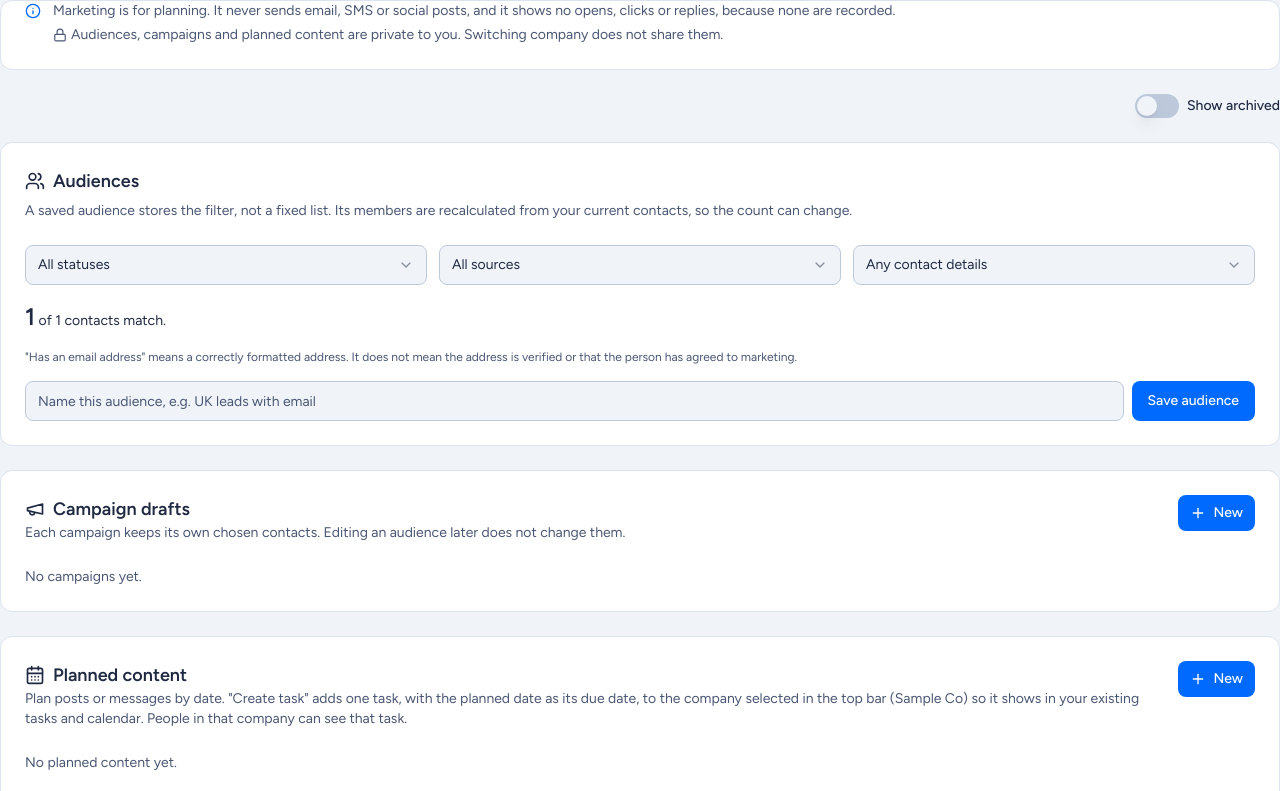
Test: MarketingTab › keeps typed input after a failed save
The width and height of the screenshot is (1280, 791).
Type "Keep me" into the field named "Audience name" at [574, 401], box [25, 381, 1124, 421]
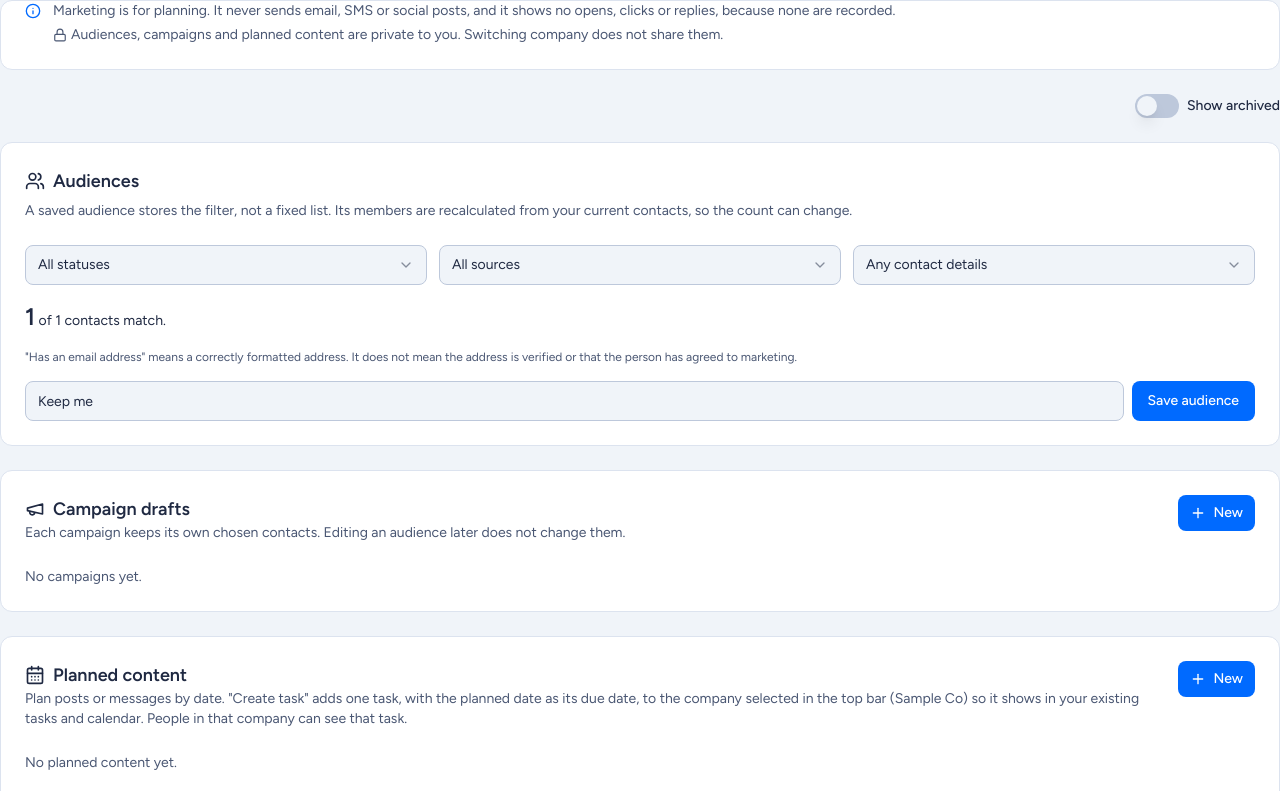
Click the button "Save audience" at [1193, 401], box [1132, 381, 1255, 421]
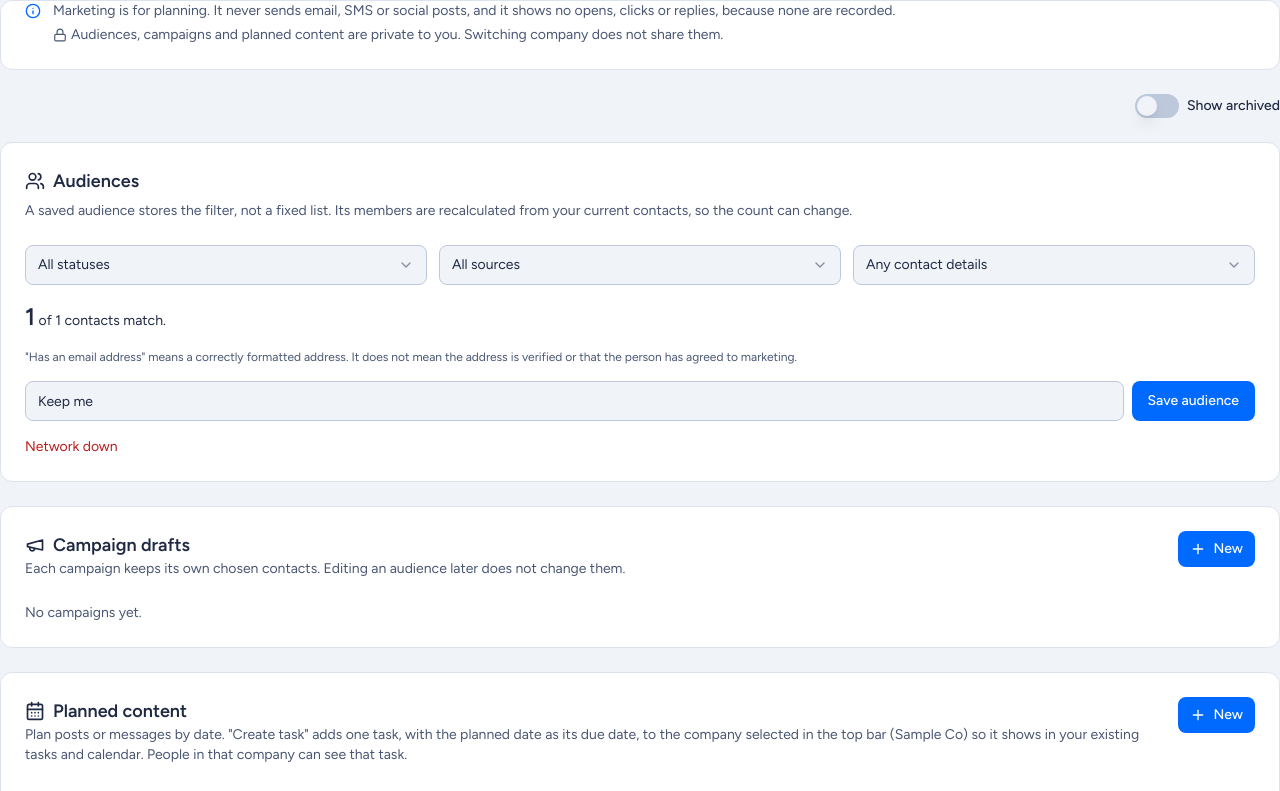
Now the message reads "Network down", box [25, 438, 118, 455]
